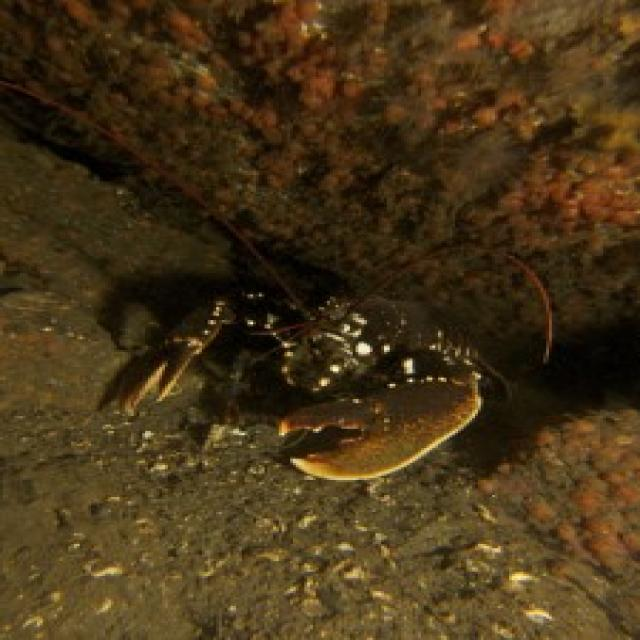lobsters: (44, 148, 640, 534)
